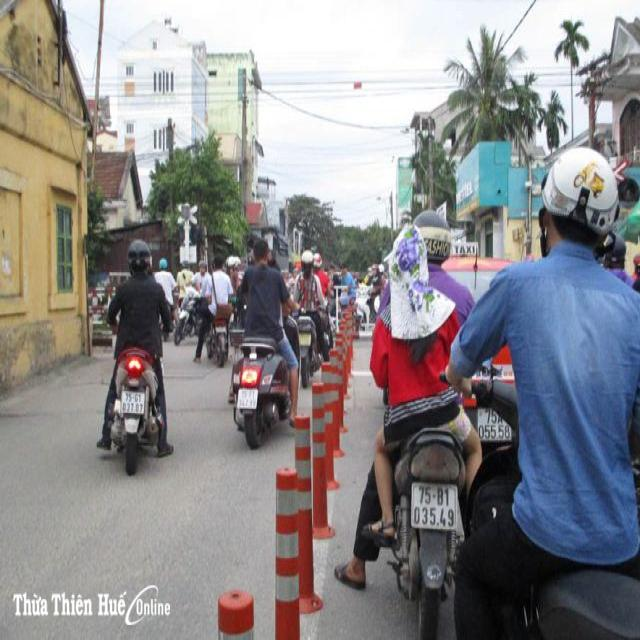helmet: (541, 146, 619, 235)
